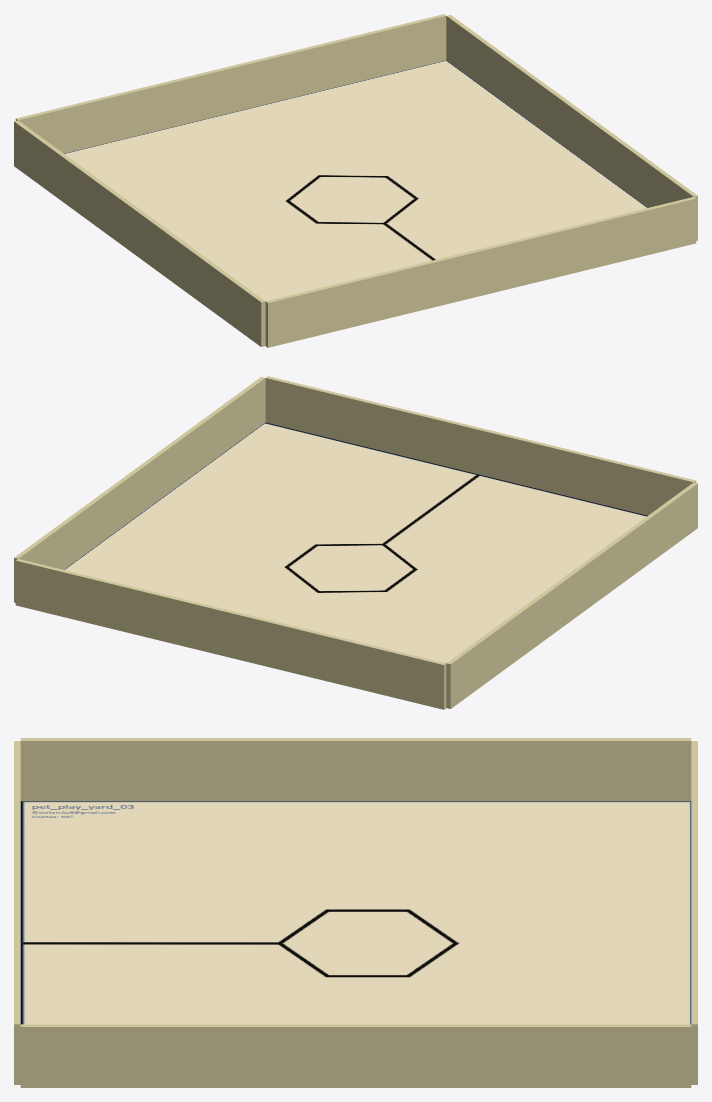
File: pet_play_yard_03.dae
3 views of the same model, one above another, from view 1: azimuth 30°, elevation 25°; view 2: azimuth 150°, elevation 25°; view 3: azimuth 270°, elevation 25° (orthographic). The views are drawn at different scales.
Visible parts, largest first — view 1: floor, wall_back.003, wall_back.002, wall_back, wall_back.001; view 2: floor, wall_back.002, wall_back.003, wall_back, wall_back.001; view 3: floor, wall_back.001, wall_back, wall_back.003, wall_back.002.
Boxes of the visible parts, x1,y1,x2,y2 form: floor: (64,60,647,301); wall_back.003: (265,197,696,347); wall_back.002: (15,14,446,153); wall_back: (14,120,265,346); wall_back.001: (446,15,697,240); floor: (64,422,647,663); wall_back.002: (15,559,446,709); wall_back.003: (265,376,696,515); wall_back: (446,482,697,708); wall_back.001: (14,377,265,602); floor: (20,801,691,1024); wall_back.001: (20,1024,691,1087); wall_back: (20,738,691,801); wall_back.003: (14,741,20,1084); wall_back.002: (691,741,697,1084).
Bounding box in the file's own units: 2.04 × 2.04 × 0.2.
2 materials, 1 textured.
